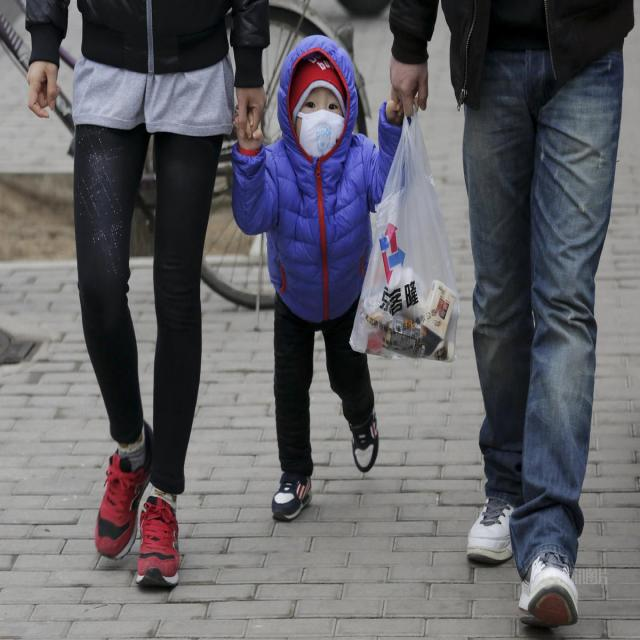mask: (296, 72, 344, 158)
